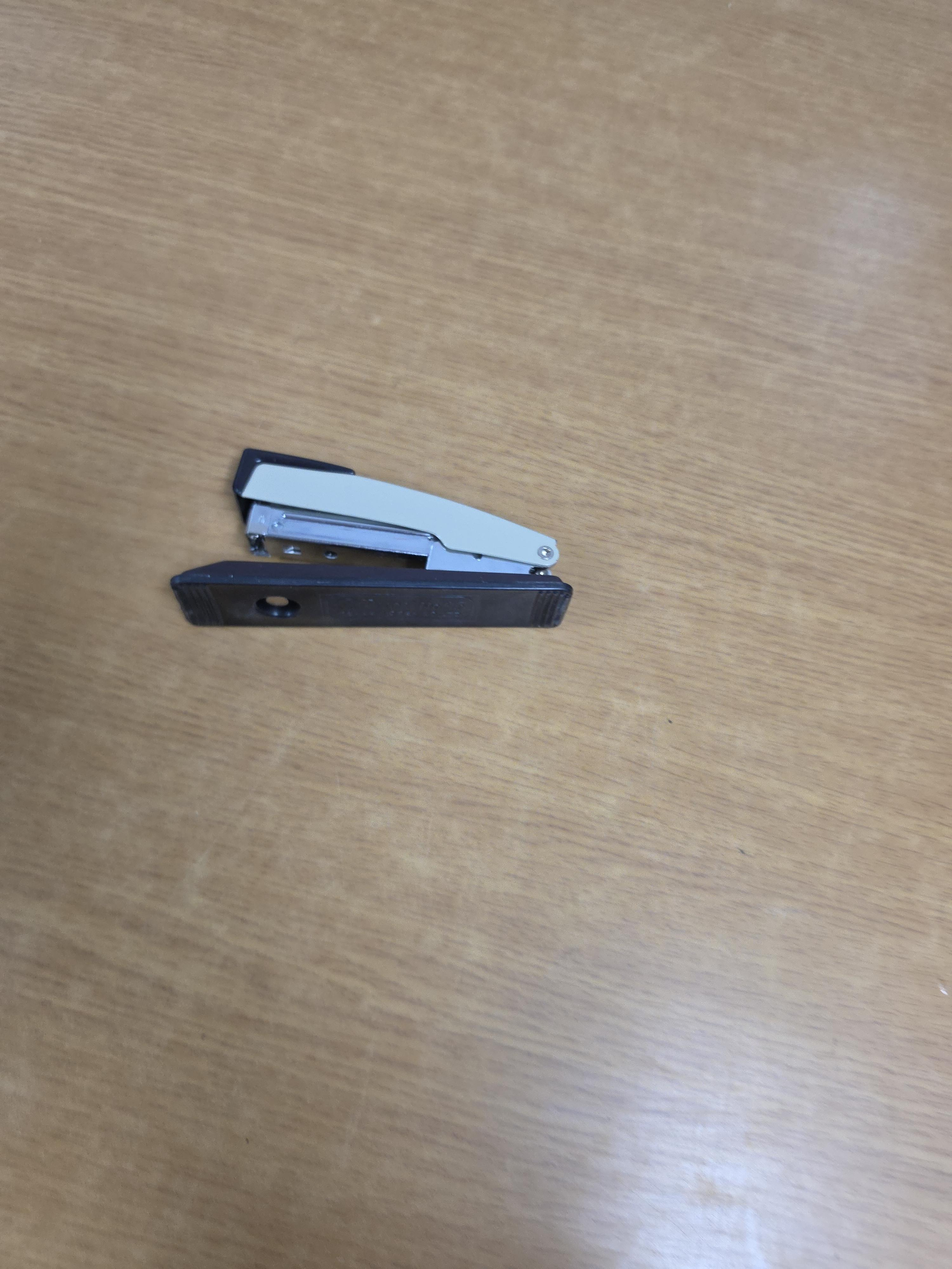stapler: (170, 448, 573, 628)
